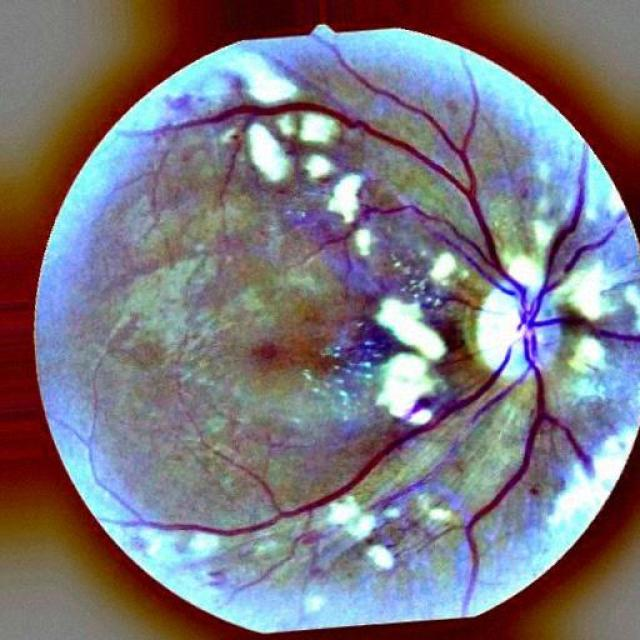Nerves: (140, 40, 639, 608)
Optic Disk: (475, 272, 565, 385)
